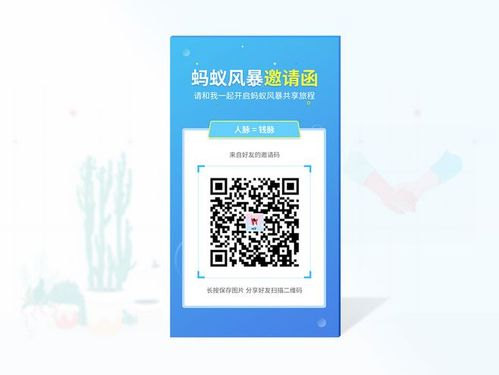QRCode: (208, 176, 303, 269)
